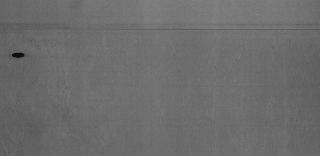punching hole: (10, 52, 28, 60)
welding line: (1, 24, 319, 32)
